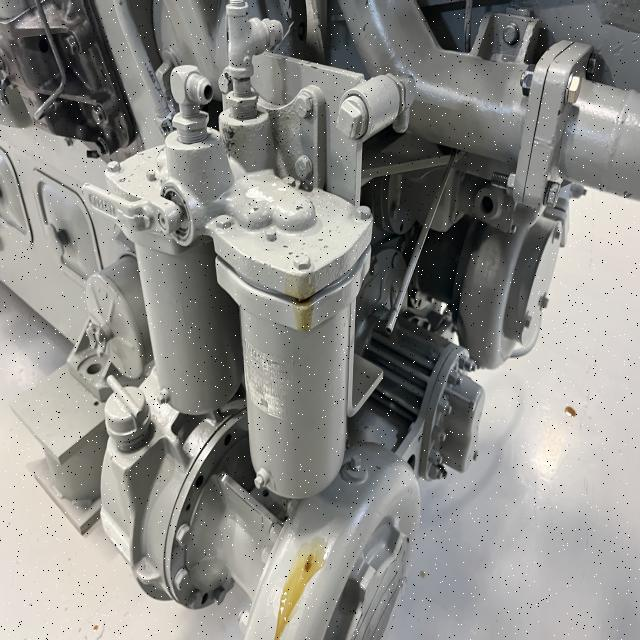Oil Leak: (253, 532, 334, 640), (281, 268, 325, 333), (563, 404, 578, 420)
